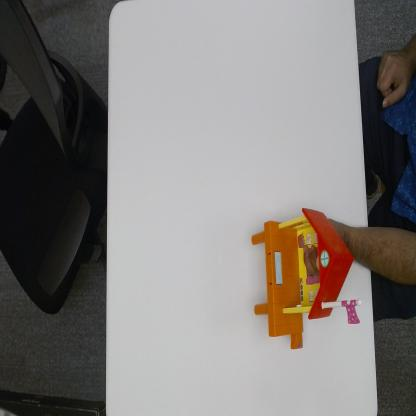House: (250, 206, 363, 356)
